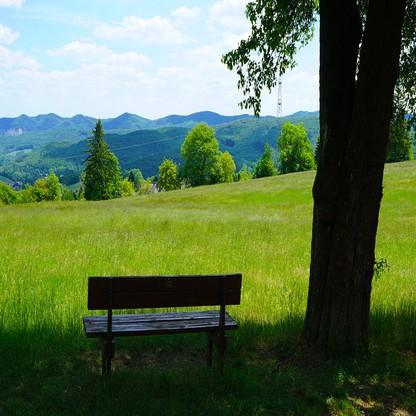obstacle: (69, 264, 249, 383)
